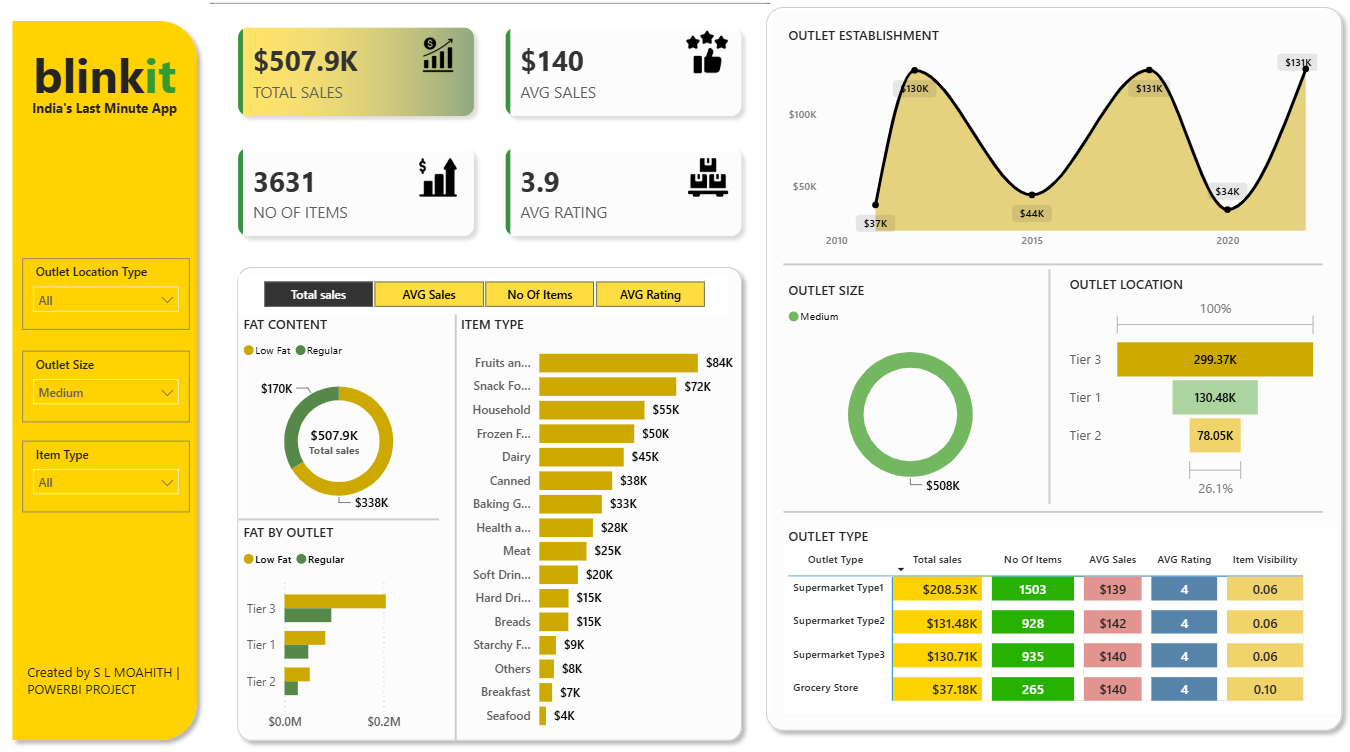

The dashboard page shown, as its layout file describes it:
{"tool":"powerbi","page":{"name":"Page 1","canvas":[1400,800],"ordinal":0},"visuals":[{"type":"shape","box":[18,26,206,750],"z":0},{"type":"textbox","box":[42.9,51.4,181.4,95.7],"z":1000},{"type":"textbox","box":[41.4,110,160,37.1],"z":2000},{"type":"cardVisual","fields":{"Data":["BlinkIT Grocery Data.Total sales","BlinkIT Grocery Data.AVG Sales","BlinkIT Grocery Data.No Of Items","BlinkIT Grocery Data.AVG Rating"]},"box":[227.1,11.4,570,270],"z":3000},{"type":"image","box":[411.4,51.4,98.6,35.7],"z":4000},{"type":"image","box":[624.3,44.3,218.6,42.9],"z":5000},{"type":"image","box":[685.7,172.9,98.6,41.4],"z":6000},{"type":"image","box":[411.4,172.9,98.6,41.4],"z":7000},{"type":"shape","box":[247.1,275.7,531.4,500],"z":8000},{"type":"donutChart","title":"FAT CONTENT","fields":{"Y":["BlinkIT Grocery Data.Total sales"],"Category":["BlinkIT Grocery Data.Item Fat Content"]},"box":[257.1,332.9,204.3,212.9],"z":9000},{"type":"slicer","fields":{"Values":["Metrics.Metrics"]},"box":[257.1,292.9,498.6,40],"z":10000},{"type":"cardVisual","fields":{"Data":["BlinkIT Grocery Data.Total sales"]},"box":[297.6,431.1,113.2,61],"z":11000},{"type":"clusteredBarChart","title":"FAT BY OUTLET","fields":{"Y":["BlinkIT Grocery Data.Total sales"],"Category":["BlinkIT Grocery Data.Outlet Location Type"],"Series":["BlinkIT Grocery Data.Item Fat Content"]},"box":[257.1,545.7,220,220],"z":12000},{"type":"shape","box":[257.1,525.7,204.3,32.9],"z":13000},{"type":"shape","box":[462.9,332.9,30,432.9],"z":14000},{"type":"barChart","title":"ITEM TYPE","fields":{"Y":["BlinkIT Grocery Data.Total sales"],"Category":["BlinkIT Grocery Data.Item Type"]},"box":[478.6,332.9,287.1,432.9],"z":15000},{"type":"shape","box":[784.3,11.4,604.3,754.3],"z":16000},{"type":"lineChart","title":"OUTLET ESTABLISHMENT","fields":{"Y":["BlinkIT Grocery Data.Total sales"],"Category":["BlinkIT Grocery Data.Outlet Establishment Year"]},"box":[811.4,40,548.6,235.7],"z":17000},{"type":"shape","box":[811.4,265.7,548.6,32.9],"z":18000},{"type":"donutChart","title":"OUTLET SIZE","fields":{"Y":["BlinkIT Grocery Data.Total sales"],"Category":["BlinkIT Grocery Data.Outlet Size"]},"box":[811.4,298.6,258.6,227.1],"z":19000},{"type":"shape","box":[1067.1,287.1,30,238.6],"z":20000},{"type":"funnel","title":"OUTLET LOCATION","fields":{"Category":["BlinkIT Grocery Data.Outlet Location Type"],"Y":["Sum(BlinkIT Grocery Data.Sales)"]},"box":[1097.1,292.9,262.9,232.9],"z":21000},{"type":"shape","box":[811.4,517.1,548.6,32.9],"z":22000},{"type":"pivotTable","title":"OUTLET TYPE","fields":{"Rows":["BlinkIT Grocery Data.Outlet Type"],"Values":["BlinkIT Grocery Data.Total sales","BlinkIT Grocery Data.No Of Items","BlinkIT Grocery Data.AVG Sales","BlinkIT Grocery Data.AVG Rating","Avg(BlinkIT Grocery Data.Item Visibility)"]},"box":[811.4,550,562.9,190],"z":23000},{"type":"slicer","fields":{"Values":["BlinkIT Grocery Data.Outlet Location Type"]},"box":[36.2,276.2,170,72.5],"z":24000},{"type":"slicer","fields":{"Values":["BlinkIT Grocery Data.Outlet Size"]},"box":[36.2,370,170,72.5],"z":25000},{"type":"slicer","fields":{"Values":["BlinkIT Grocery Data.Item Type"]},"box":[36.2,461.2,170,72.5],"z":26000},{"type":"textbox","box":[36.7,683.3,180,56.7],"z":26002}]}

Visuals, with their boxes in screenshot pixels (x1, y1, x2, y2), scaled from the page's 1400x800 canvas onto the 1350x752 screenshot:
shape: 17:24:216:729
textbox: 41:48:216:138
textbox: 40:103:194:138
cardVisual - BlinkIT Grocery Data.Total sales x BlinkIT Grocery Data.AVG Sales: 219:11:769:265
image: 397:48:492:82
image: 602:42:813:82
image: 661:163:756:201
image: 397:163:492:201
shape: 238:259:751:729
"FAT CONTENT" donutChart: 248:313:445:513
slicer - Metrics.Metrics: 248:275:729:313
cardVisual - BlinkIT Grocery Data.Total sales: 287:405:396:463
"FAT BY OUTLET" clusteredBarChart: 248:513:460:720
shape: 248:494:445:525
shape: 446:313:475:720
"ITEM TYPE" barChart: 462:313:738:720
shape: 756:11:1339:720
"OUTLET ESTABLISHMENT" lineChart: 782:38:1311:259
shape: 782:250:1311:281
"OUTLET SIZE" donutChart: 782:281:1032:494
shape: 1029:270:1058:494
"OUTLET LOCATION" funnel: 1058:275:1311:494
shape: 782:486:1311:517
"OUTLET TYPE" pivotTable: 782:517:1325:696
slicer - BlinkIT Grocery Data.Outlet Location Type: 35:260:199:328
slicer - BlinkIT Grocery Data.Outlet Size: 35:348:199:416
slicer - BlinkIT Grocery Data.Item Type: 35:434:199:502
textbox: 35:642:209:696
